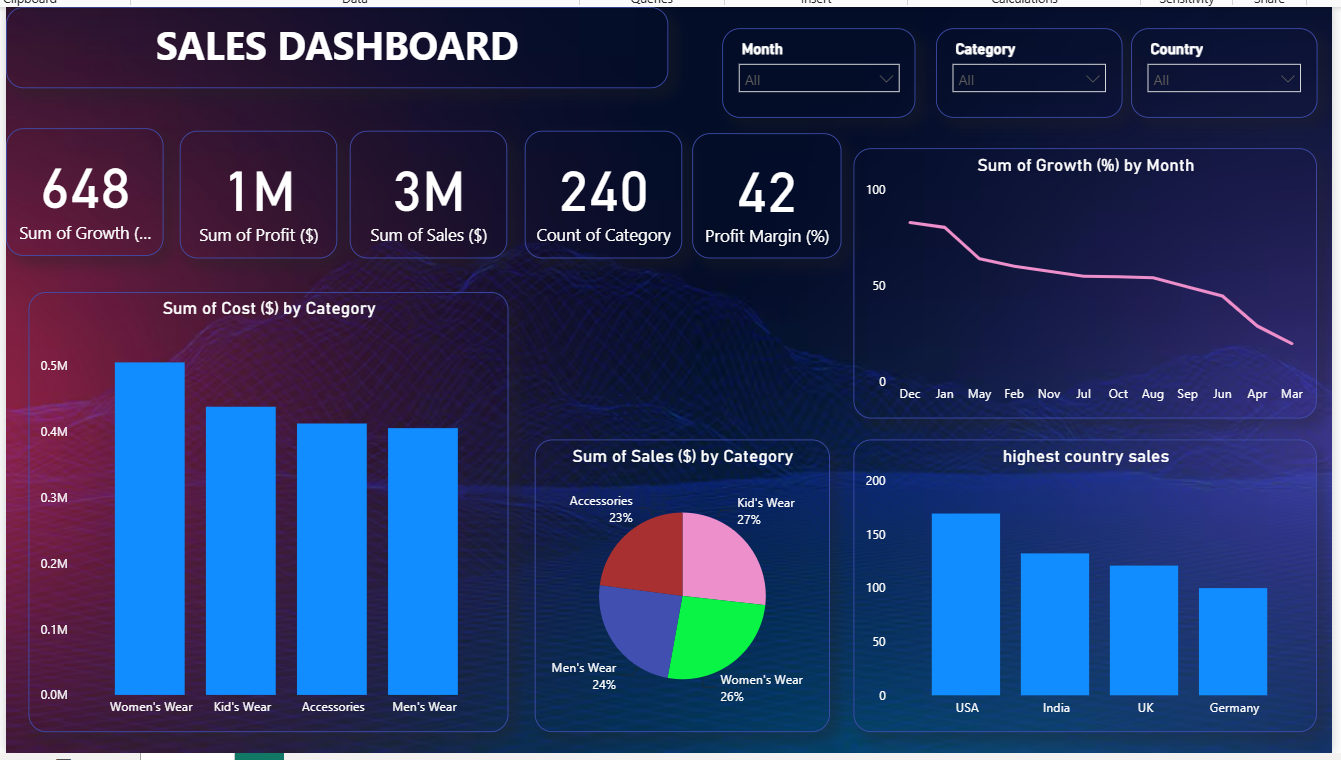

The page's visual inventory and layout, read from the dashboard file:
{"tool":"powerbi","page":{"name":"Page 1","canvas":[1280,720],"ordinal":0},"visuals":[{"type":"lineChart","fields":{"Category":["Sheet1.Month"],"Y":["Sum(Sheet1.Growth (%))"]},"box":[817.8,135.8,447.3,260.7],"z":0},{"type":"clusteredColumnChart","title":"highest country sales","fields":{"Y":["Sum(Sheet1.Growth (%))"],"Category":["Sheet1.Country"]},"box":[817.8,417.2,447.3,282.7],"z":1},{"type":"pieChart","fields":{"Category":["Sheet1.Category"],"Y":["Sum(Sheet1.Sales ($))"]},"box":[510.5,417.2,284,282.7],"z":2},{"type":"textbox","box":[0,0,639.5,78.2],"z":4},{"type":"card","fields":{"Values":["Sum(Sheet1.Growth (%))"]},"box":[0,116.6,152.3,123.5],"z":5},{"type":"card","fields":{"Values":["Sum(Sheet1.Profit ($))"]},"box":[167.4,119.4,152.3,123.5],"z":6},{"type":"card","fields":{"Values":["Sum(Sheet1.Sales ($))"]},"box":[332.1,119.4,152.3,123.5],"z":7},{"type":"slicer","fields":{"Values":["Sheet1.Category"]},"box":[897.4,20.6,179.8,86.4],"z":8},{"type":"slicer","fields":{"Values":["Sheet1.Month"]},"box":[691.6,20.6,186.6,86.4],"z":9},{"type":"card","fields":{"Values":["CountNonNull(Sheet1.Category)"]},"box":[500.9,119.4,152.3,123.5],"z":10},{"type":"card","fields":{"Values":["Sheet1.Profit Margin (%)"]},"box":[662.8,122.1,144.1,120.8],"z":11},{"type":"qnaVisual","box":[22,266.2,773.9,93.3],"z":12},{"type":"clusteredColumnChart","fields":{"Category":["Sheet1.Category"],"Y":["Sum(Sheet1.Cost ($))"]},"box":[21.7,396.9,463.3,302.8],"z":13},{"type":"slicer","fields":{"Values":["Sheet1.Country"]},"box":[1085.4,20.6,179.8,86.4],"z":14}]}

Visuals, with their boxes on the page's 1280x720 design canvas (x1, y1, x2, y2). These are canvas units, not pixel positions in the 1341x760 screenshot, which may show the page scaled, cropped or inside an application window:
lineChart - Sheet1.Month x Sum(Sheet1.Growth (%)): Rect(818, 136, 1265, 396)
"highest country sales" clusteredColumnChart: Rect(818, 417, 1265, 700)
pieChart - Sheet1.Category x Sum(Sheet1.Sales ($)): Rect(510, 417, 794, 700)
textbox: Rect(0, 0, 640, 78)
card - Sum(Sheet1.Growth (%)): Rect(0, 117, 152, 240)
card - Sum(Sheet1.Profit ($)): Rect(167, 119, 320, 243)
card - Sum(Sheet1.Sales ($)): Rect(332, 119, 484, 243)
slicer - Sheet1.Category: Rect(897, 21, 1077, 107)
slicer - Sheet1.Month: Rect(692, 21, 878, 107)
card - CountNonNull(Sheet1.Category): Rect(501, 119, 653, 243)
card - Sheet1.Profit Margin (%): Rect(663, 122, 807, 243)
qnaVisual: Rect(22, 266, 796, 360)
clusteredColumnChart - Sheet1.Category x Sum(Sheet1.Cost ($)): Rect(22, 397, 485, 700)
slicer - Sheet1.Country: Rect(1085, 21, 1265, 107)
